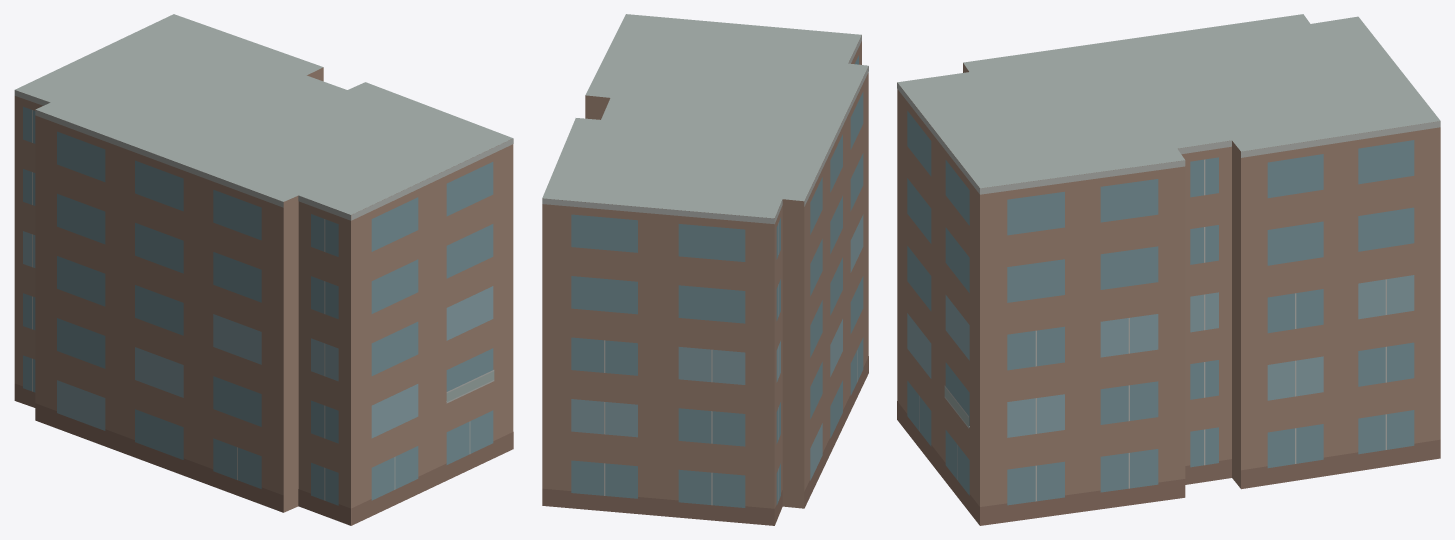
The model's file is survey-upis-32989833.glb.
3 renders of one model, left to right at view 1: azimuth 30°, elevation 25°; view 2: azimuth 150°, elevation 25°; view 3: azimuth 270°, elevation 25°, orthographic. The views are drawn at different scales.
Parts seen in each view (by area): view 1: survey-upis-32989833.tmp; view 2: survey-upis-32989833.tmp; view 3: survey-upis-32989833.tmp.
Part boxes in pixels (left/top/right/bottom): survey-upis-32989833.tmp: left=14, top=14, right=513, bottom=525; survey-upis-32989833.tmp: left=542, top=14, right=868, bottom=525; survey-upis-32989833.tmp: left=897, top=14, right=1440, bottom=525.
Bounding box in the file's own units: 14.53 × 13.1 × 19.13.
